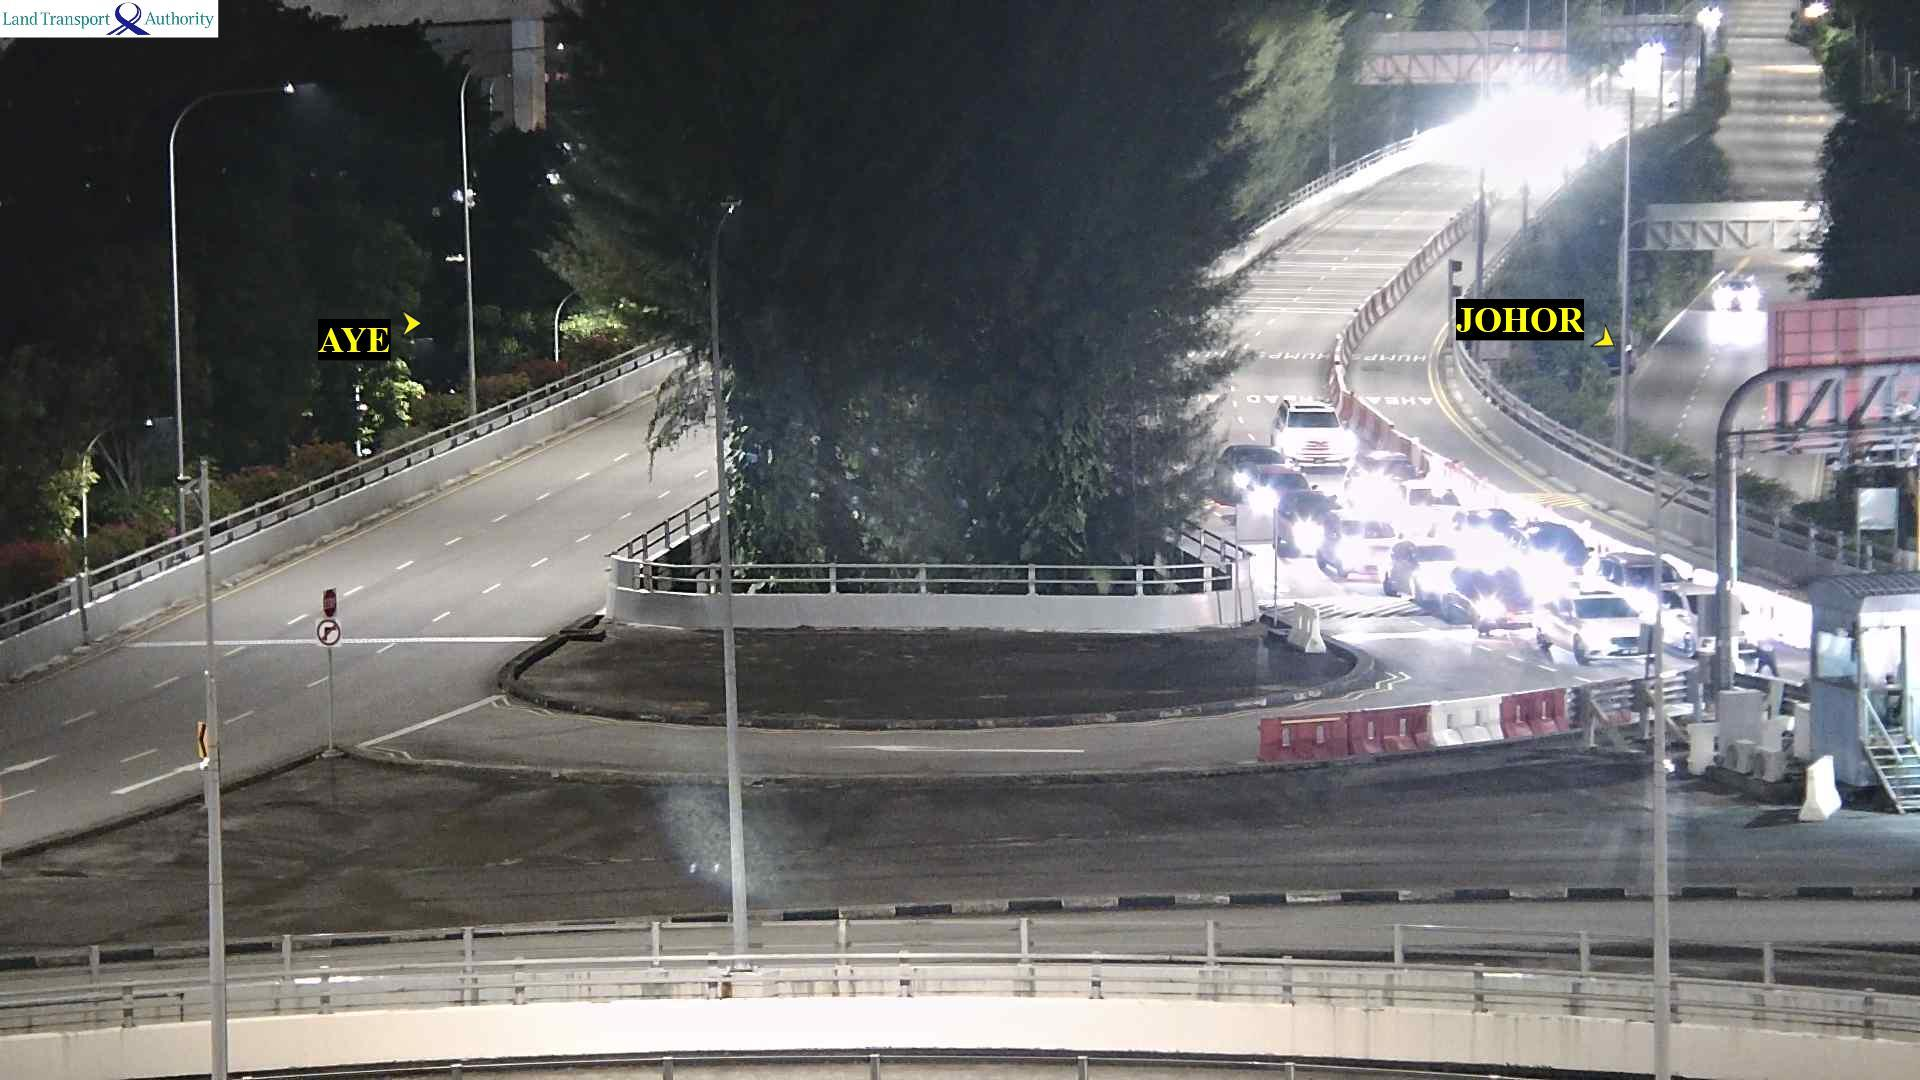vehicle-secondlink-johor: (1530, 592, 1650, 665), (1654, 589, 1759, 647), (1273, 398, 1349, 468), (1443, 570, 1535, 620), (1317, 514, 1395, 574), (1385, 537, 1452, 595), (1519, 521, 1588, 572), (1600, 556, 1683, 595), (1216, 443, 1280, 489), (1353, 451, 1412, 498), (1273, 493, 1325, 545), (1406, 484, 1461, 522), (1455, 506, 1516, 537)
